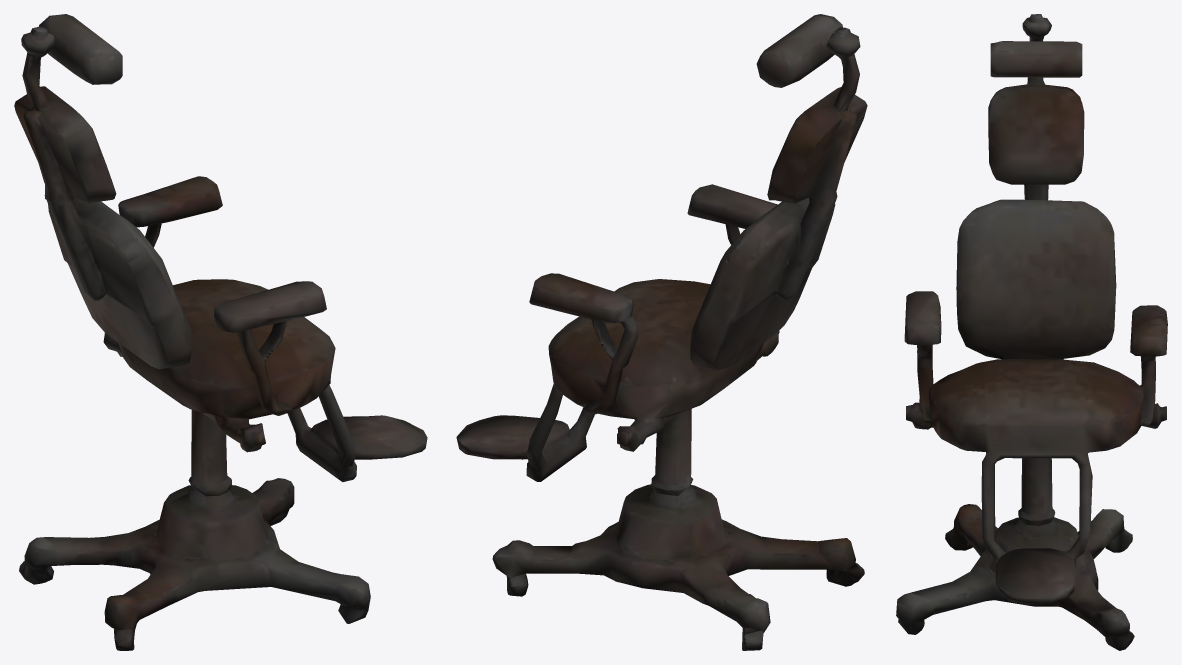
Rendered from worn-iron-examination-chair-v001.glb.
3 renders of one model, left to right at view 1: azimuth 30°, elevation 25°; view 2: azimuth 150°, elevation 25°; view 3: azimuth 270°, elevation 25°, orthographic. The views are drawn at different scales.
Visible parts, largest first — view 1: worn-iron-examination-chair; view 2: worn-iron-examination-chair; view 3: worn-iron-examination-chair.
Boxes of the visible parts, bbox=[...] form: worn-iron-examination-chair: bbox=[14, 14, 427, 650]; worn-iron-examination-chair: bbox=[456, 14, 867, 650]; worn-iron-examination-chair: bbox=[896, 14, 1167, 650].
Bounding box in the file's own units: 0.8734 × 1.26 × 0.6018.
Materials: 1 (1 with a texture image).
